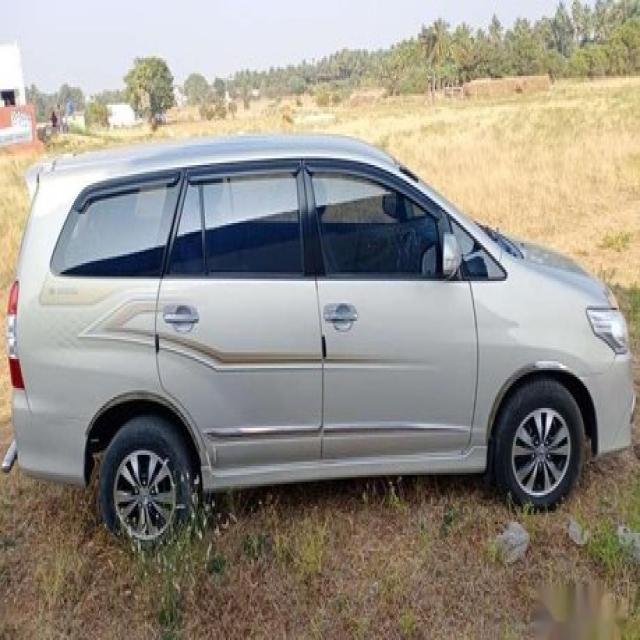light_vehicle: (1, 132, 638, 553)
